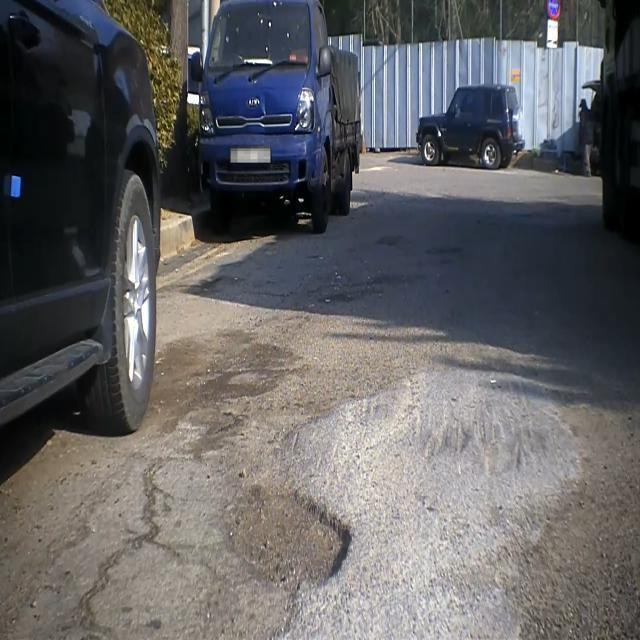pothole: (218, 467, 363, 613)
